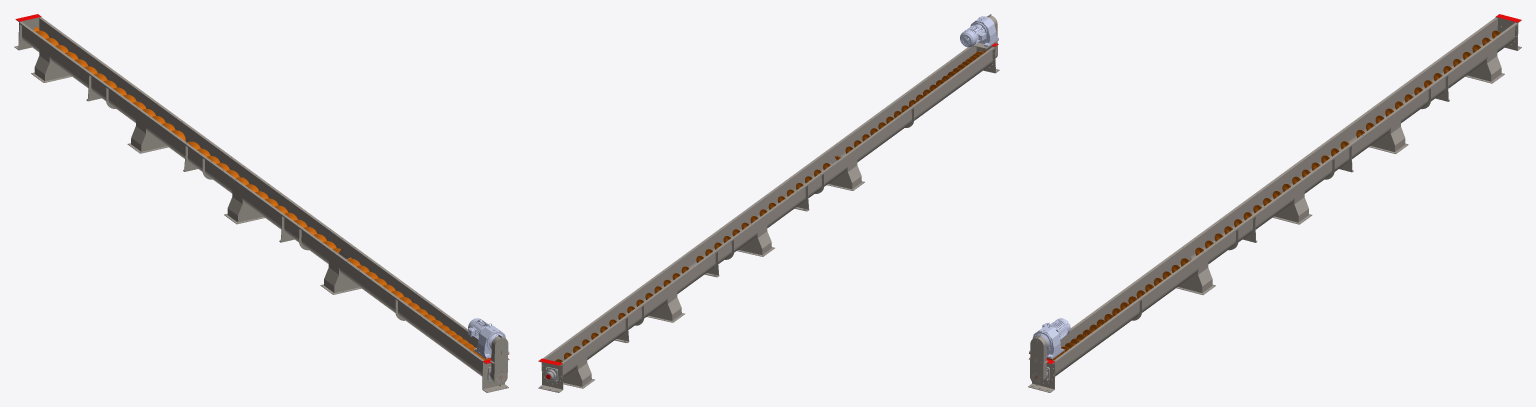
Rendered from assembly-36.glb.
3 views of the same model, side by side, from view 1: azimuth 30°, elevation 25°; view 2: azimuth 150°, elevation 25°; view 3: azimuth 330°, elevation 25° (orthographic). The views are drawn at different scales.
Parts seen in each view (by area): view 1: 編號3-12M螺運機.-1; view 2: 編號3-12M螺運機.-1; view 3: 編號3-12M螺運機.-1.
Part boxes in pixels (x1,y1,x2,y2): 編號3-12M螺運機.-1: (14,14,509,392); 編號3-12M螺運機.-1: (538,14,999,392); 編號3-12M螺運機.-1: (1028,14,1521,392).
Bounding box in the file's own units: 0.47 × 1.01 × 12.32.
